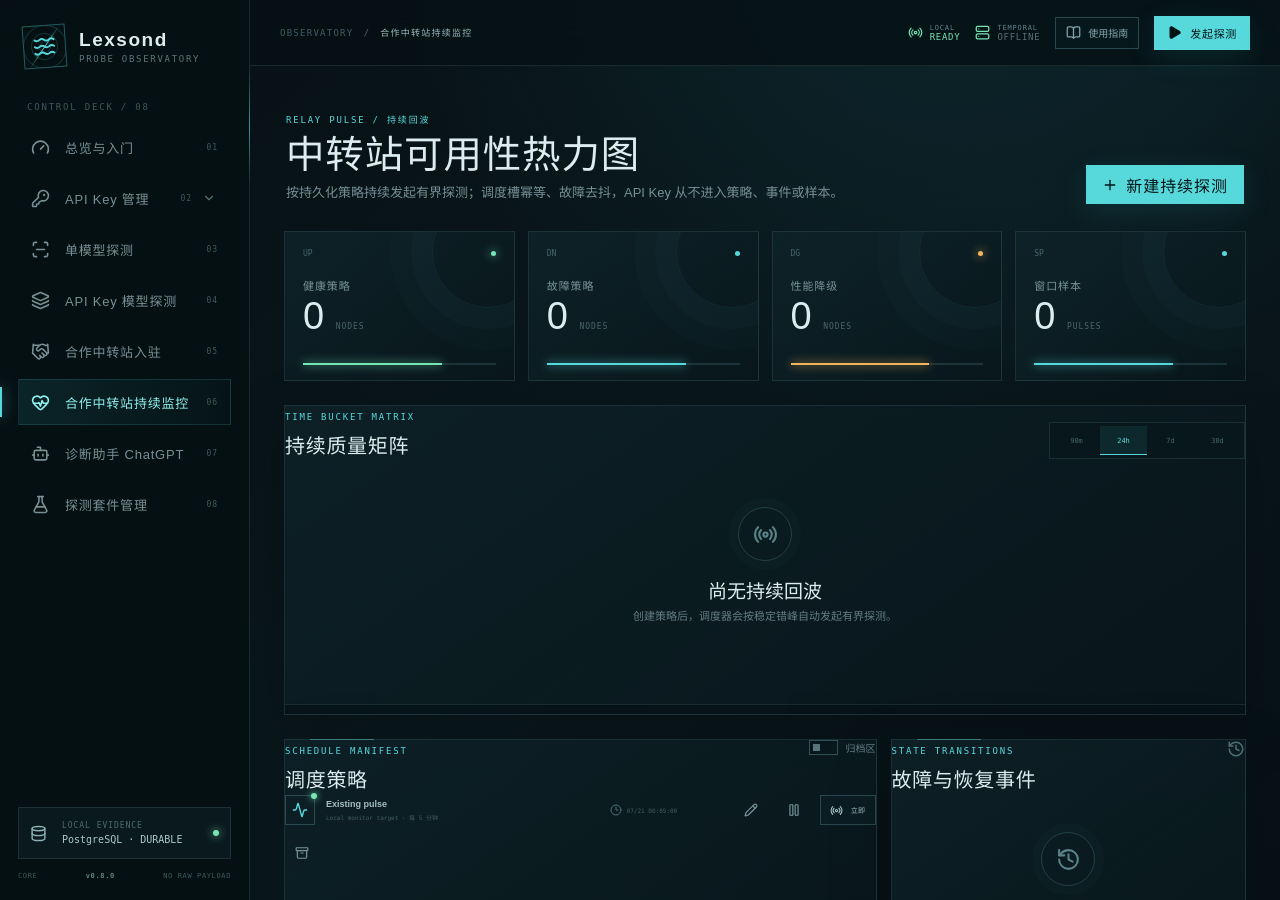
Test: observatory console › opens an existing monitor policy in the versioned edit drawer
Check: the text "Existing pulse" is shown, box [326,799,387,809]
Click the button named "编辑". click: x=751, y=810
box: [734,793,768,827]
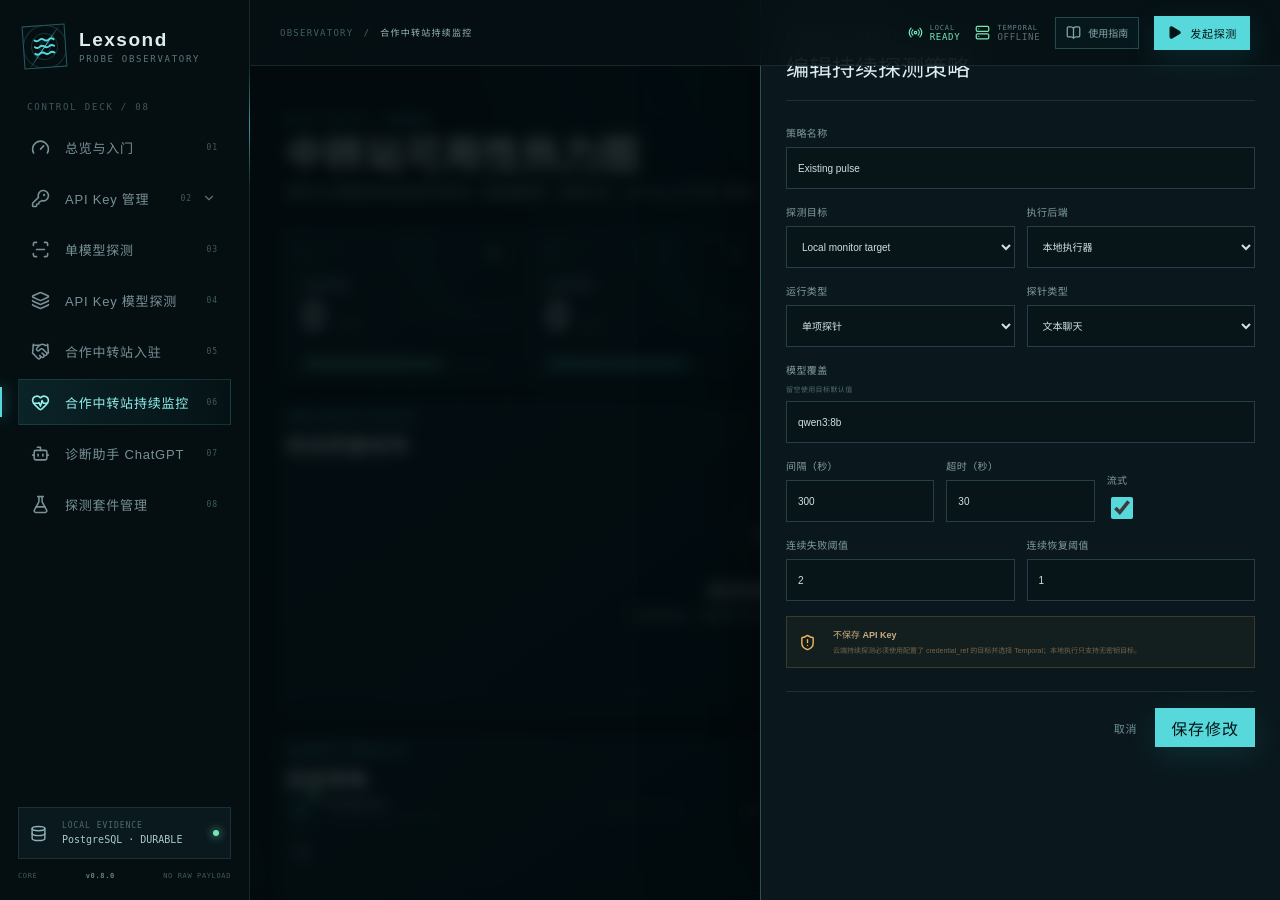
Check: the heading "编辑持续探测策略" is shown, box [786,49,970,83]
Check: the field labelled "策略名称" holds "Existing pulse", box [786,147,1255,189]
Check: the button "保存修改" is enabled, box [1155,708,1255,747]
